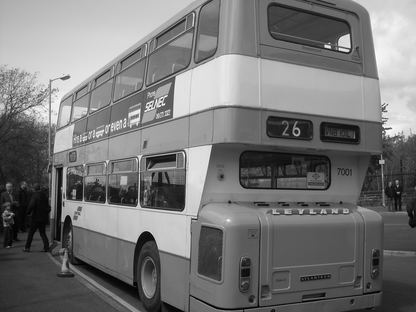bus: (50, 0, 383, 312)
